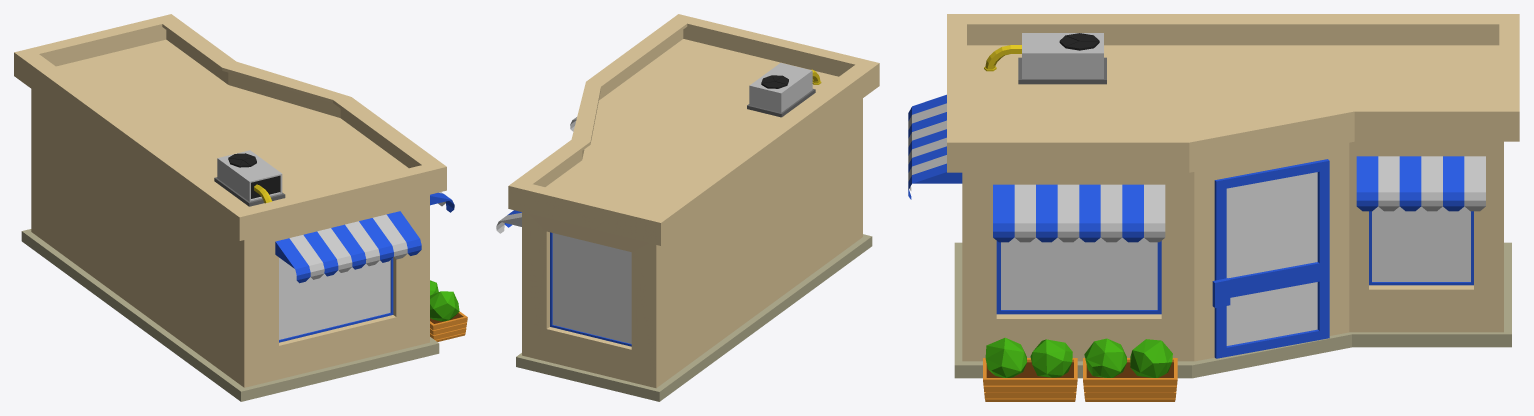
The model's file is casa 3.fbx.
3 views of the same model, side by side, from view 1: azimuth 30°, elevation 25°; view 2: azimuth 150°, elevation 25°; view 3: azimuth 270°, elevation 25° (orthographic). The views are drawn at different scales.
Parts seen in each view (by area): view 1: tetto, casa, pavimento, Cubo.005, tenda.003, tenda.001, scatola, vaso.001, cespuglio, Cubo; view 2: tetto, casa, Cubo.007, pavimento, scatola, Cubo.003, base scatola; view 3: tetto, casa, casa.003, Cubo.006, casa.001, pavimento, Cubo.004, tenda.007, tenda.006, tenda.005, tenda.004, scatola (+11 smaller).
Part boxes in pixels (x1,y1,x2,y2): tetto: [14, 14, 446, 240]; casa: [31, 89, 429, 387]; pavimento: [21, 229, 439, 401]; Cubo.005: [279, 257, 390, 339]; tenda.003: [275, 211, 421, 283]; tenda.001: [289, 214, 407, 279]; scatola: [217, 150, 282, 201]; vaso.001: [430, 311, 467, 341]; cespuglio: [430, 291, 459, 321]; Cubo: [279, 257, 393, 342]; tetto: [508, 14, 879, 245]; casa: [522, 98, 862, 388]; Cubo.007: [552, 233, 631, 343]; pavimento: [516, 234, 872, 401]; scatola: [749, 63, 812, 112]; Cubo.003: [550, 232, 631, 346]; base scatola: [747, 89, 815, 117]; tetto: [947, 14, 1519, 172]; casa: [962, 141, 1503, 361]; casa.003: [1226, 172, 1317, 345]; Cubo.006: [1001, 237, 1157, 309]; casa.001: [1214, 159, 1329, 358]; pavimento: [954, 242, 1511, 378]; Cubo.004: [1372, 206, 1470, 281]; tenda.007: [1014, 184, 1165, 242]; tenda.006: [993, 184, 1143, 242]; tenda.005: [1356, 156, 1464, 211]; tenda.004: [1378, 156, 1485, 211]; scatola: [1022, 33, 1103, 78].
Size of the model in its own units: 495 by 378 by 850.
